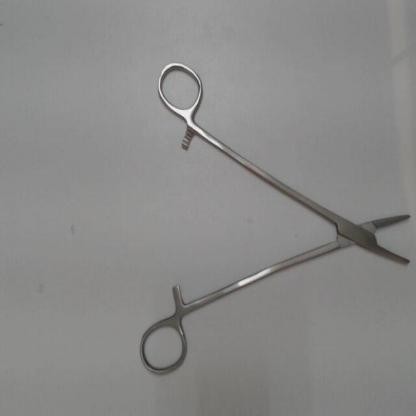8 Mayo Needle Holder: (130, 52, 414, 380)
